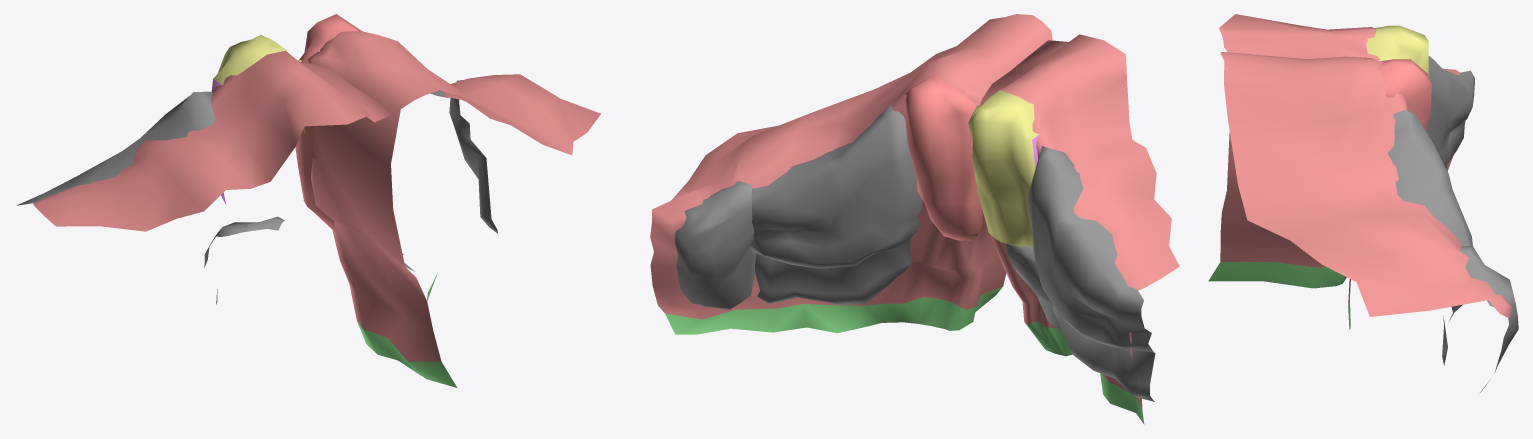
Rendered from Waterfall.gltf.
The picture shows the model from 3 angles, left to right: view 1: azimuth 30°, elevation 25°; view 2: azimuth 150°, elevation 25°; view 3: azimuth 270°, elevation 25°; orthographic projection. The views are drawn at different scales.
Visible parts, largest first — view 1: Waterfall; view 2: Waterfall; view 3: Waterfall.
Part boxes in pixels (x1,y1,x2,y2): Waterfall: [16, 14, 600, 387]; Waterfall: [650, 14, 1179, 424]; Waterfall: [1208, 14, 1518, 392].
Size of the model in its own units: 55.29 by 29.44 by 30.89.
